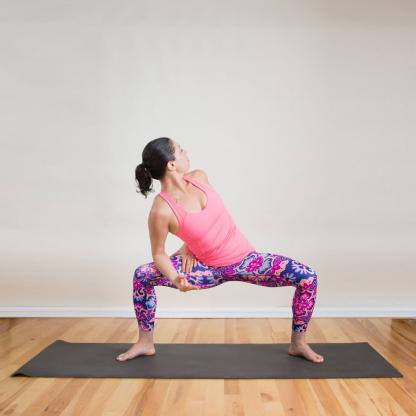godness: (107, 128, 327, 370)
